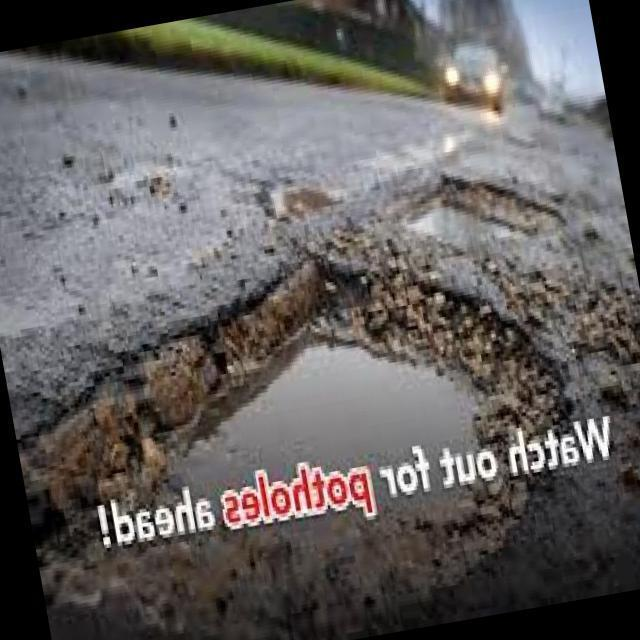Pothole: (37, 258, 564, 632)
